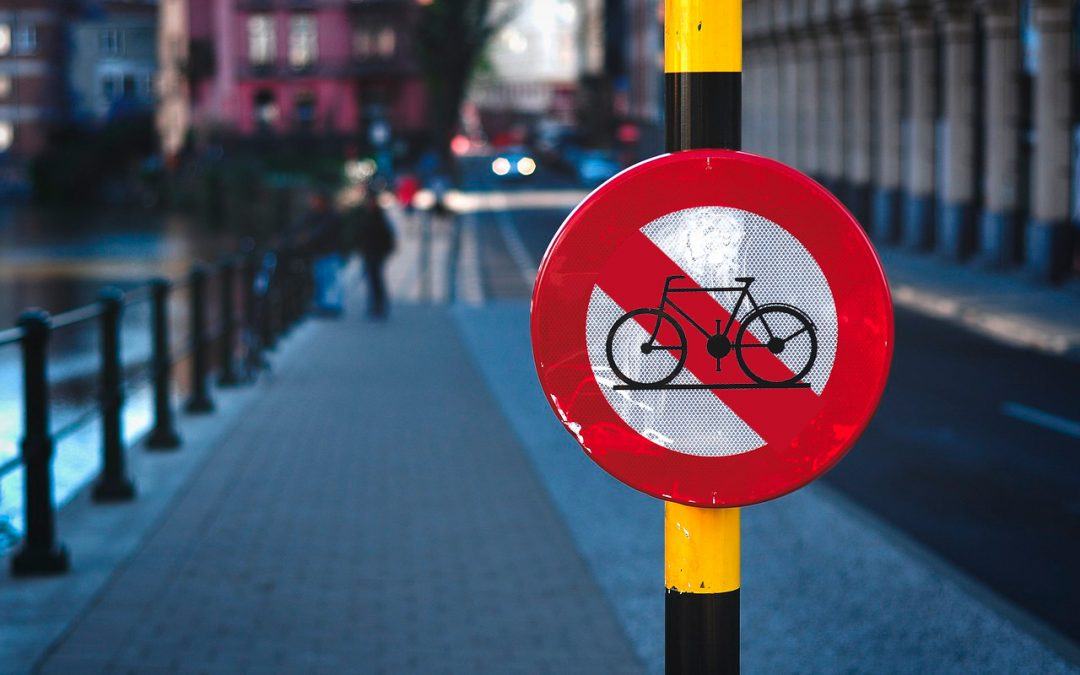Cartel: (522, 147, 901, 515)
Poste: (653, 3, 776, 674)
